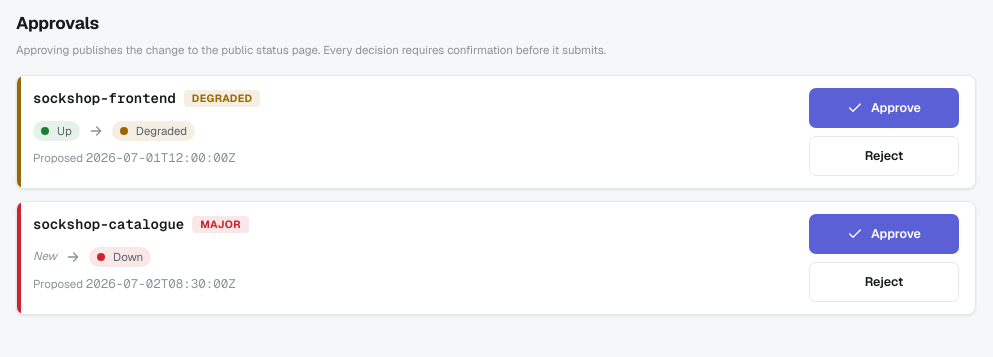
Test case: ApprovalsPage › lets the operator dismiss the confirmation step without POSTing (AC2)
Click the button "Approve" in the row of "sockshop-frontend".
click(884, 108)  # box [809,88,959,128]
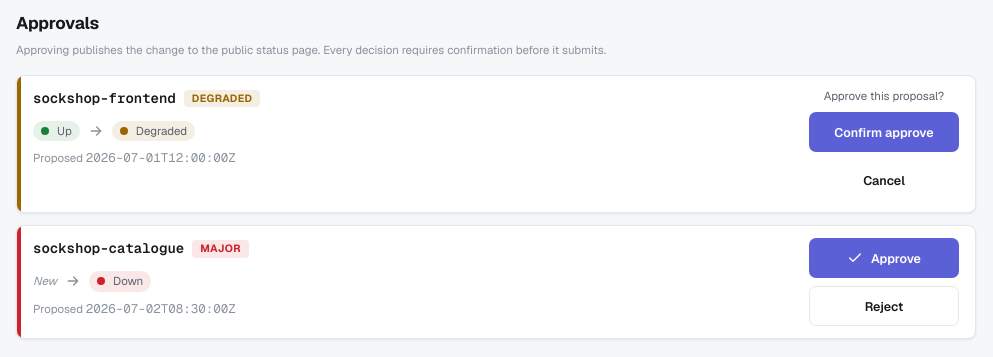
Click the button "Cancel".
click(884, 180)  # box [809,160,959,200]
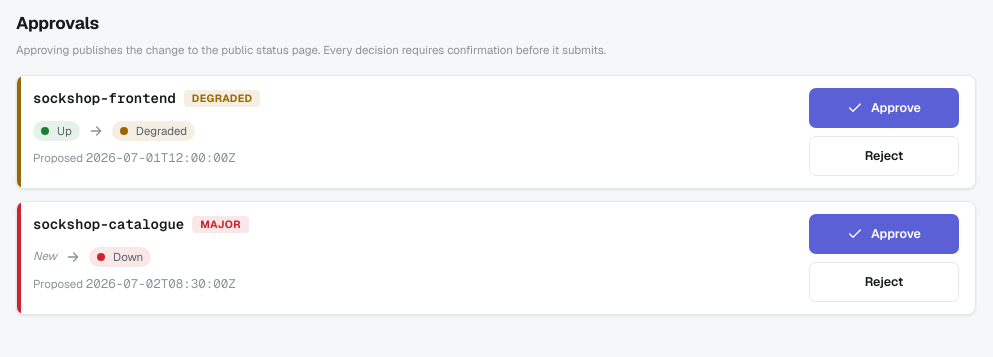
Expected: the button "Approve" in the row of "sockshop-frontend" is shown, [809,88,959,128]
Now the button "Confirm approve" is gone
